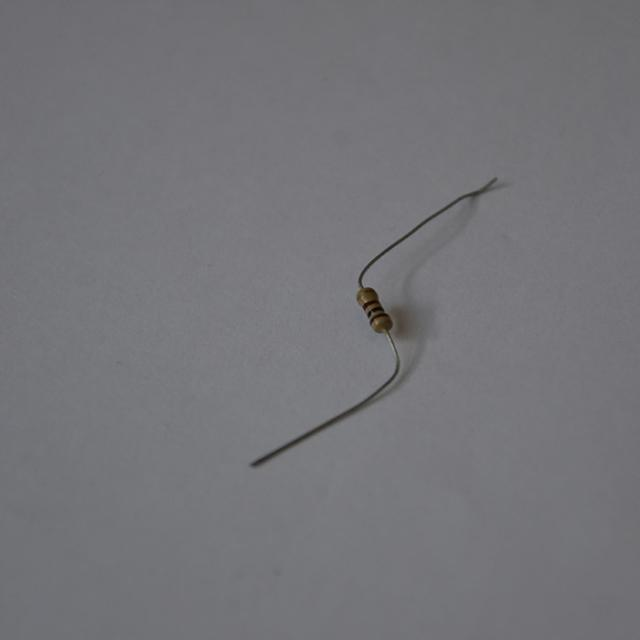Resistor Carbon-Film: (353, 282, 398, 338)
